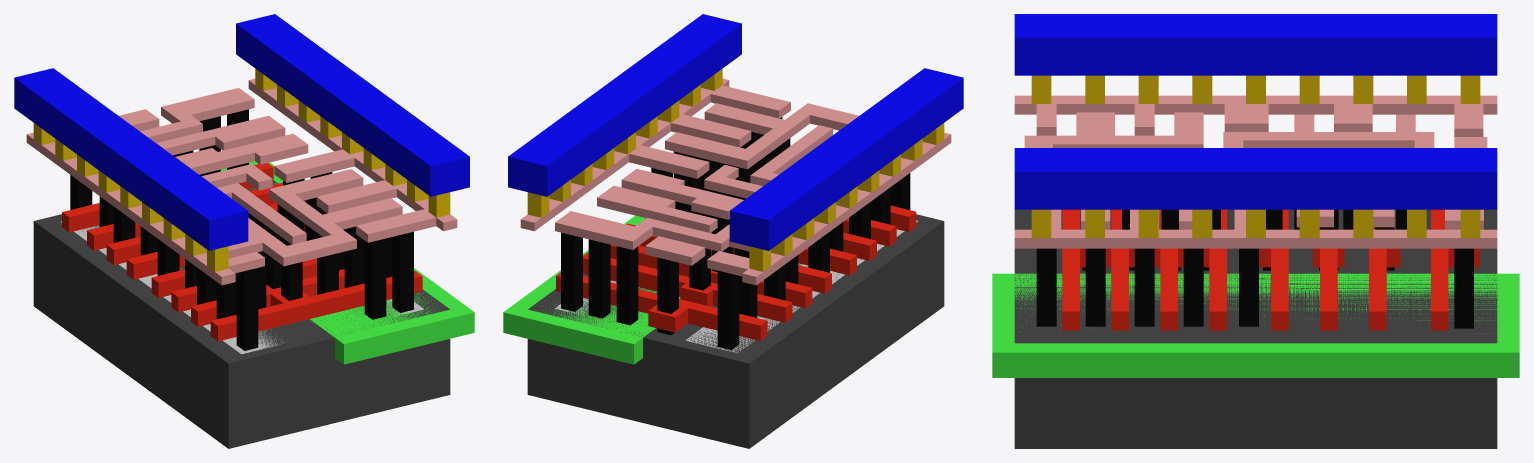
The model's file is sky130_fd_sc_hd__or4_4.obj.
The picture shows the model from 3 angles, left to right: view 1: azimuth 30°, elevation 25°; view 2: azimuth 150°, elevation 25°; view 3: azimuth 270°, elevation 25°; orthographic projection. The views are drawn at different scales.
Parts seen in each view (by area): view 1: subs, metal1, li, licon, poly, nwell, mcon, diff; view 2: subs, metal1, li, licon, poly, nwell, mcon, diff; view 3: metal1, subs, li, nwell, poly, licon, mcon.
Part boxes in pixels (x1,y1,x2,y2): subs: (33,180,450,448); metal1: (14,14,469,250); li: (26,78,457,285); licon: (70,109,413,350); poly: (62,163,422,341); nwell: (221,161,474,364); mcon: (33,68,450,271); diff: (61,221,283,354); subs: (527,214,944,448); metal1: (508,14,963,250); li: (520,78,951,285); licon: (561,117,910,349); poly: (556,205,916,340); nwell: (503,215,680,364); mcon: (527,68,944,271); diff: (685,220,918,353); metal1: (1014,14,1497,209); subs: (1014,209,1497,448); li: (1014,95,1497,248); nwell: (992,273,1519,377); poly: (1062,209,1479,330); licon: (1036,209,1473,328); mcon: (1031,75,1480,237).
Bounding box in the file's own units: 3.2 × 2.74 × 4.52.
